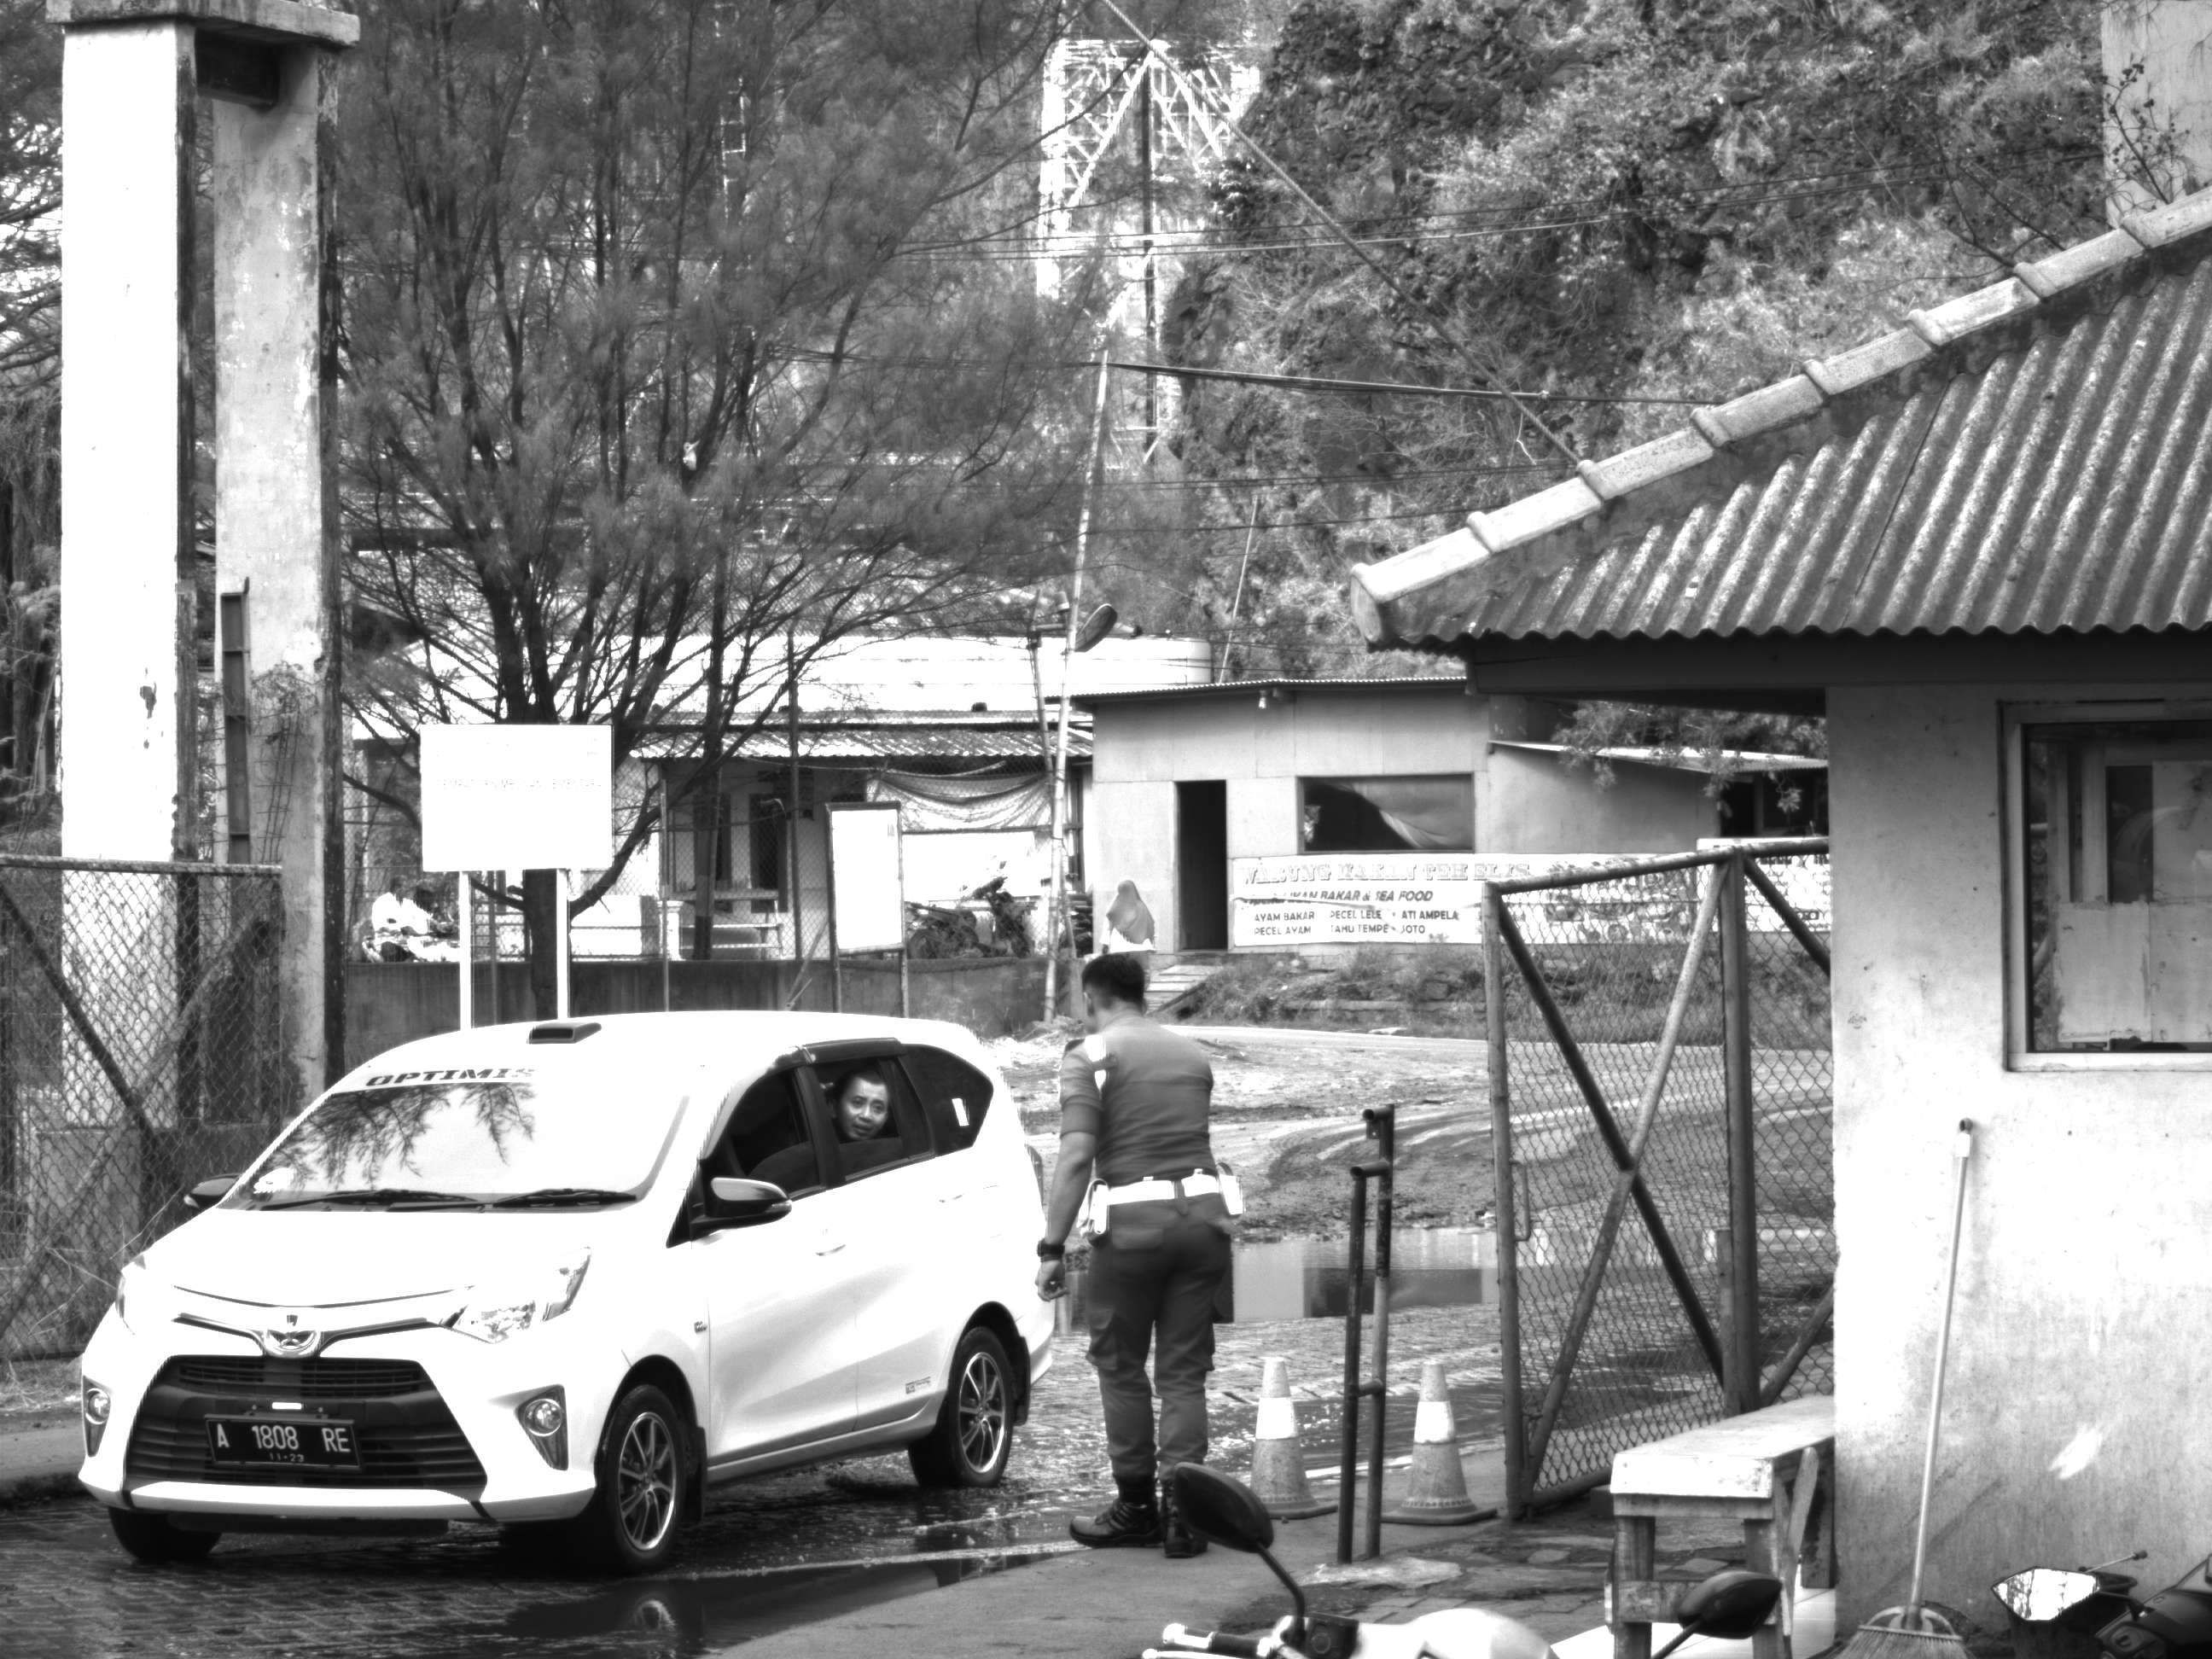day_small_front: (62, 1003, 730, 1572)
plate: (196, 1406, 375, 1477)
